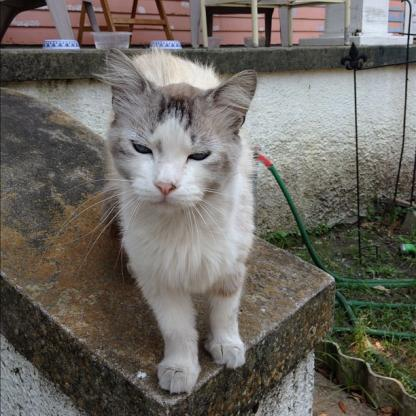Target: (98, 42, 260, 398)
